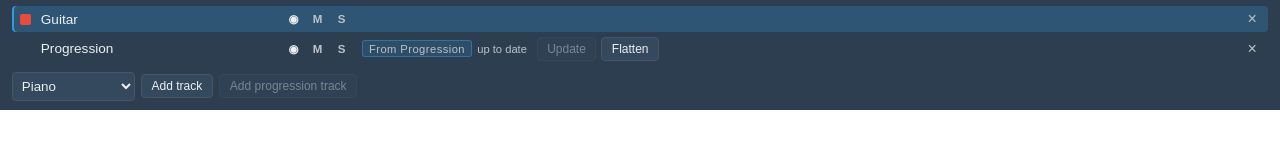
Scenario: ComposerTrackStripComponent › detaches the track from its progression when Flatten is pressed
Click the button with class "track-flatten": (630, 49) [601,37,659,61]
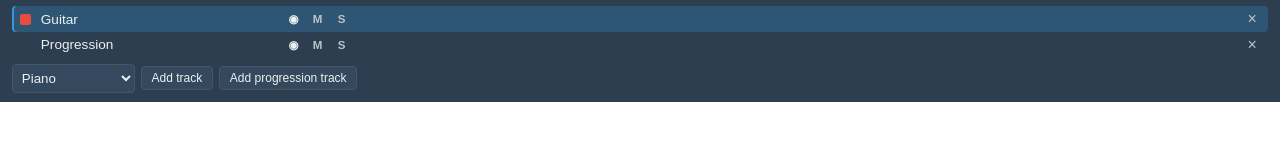
Now the text with class "track-badge" is gone
